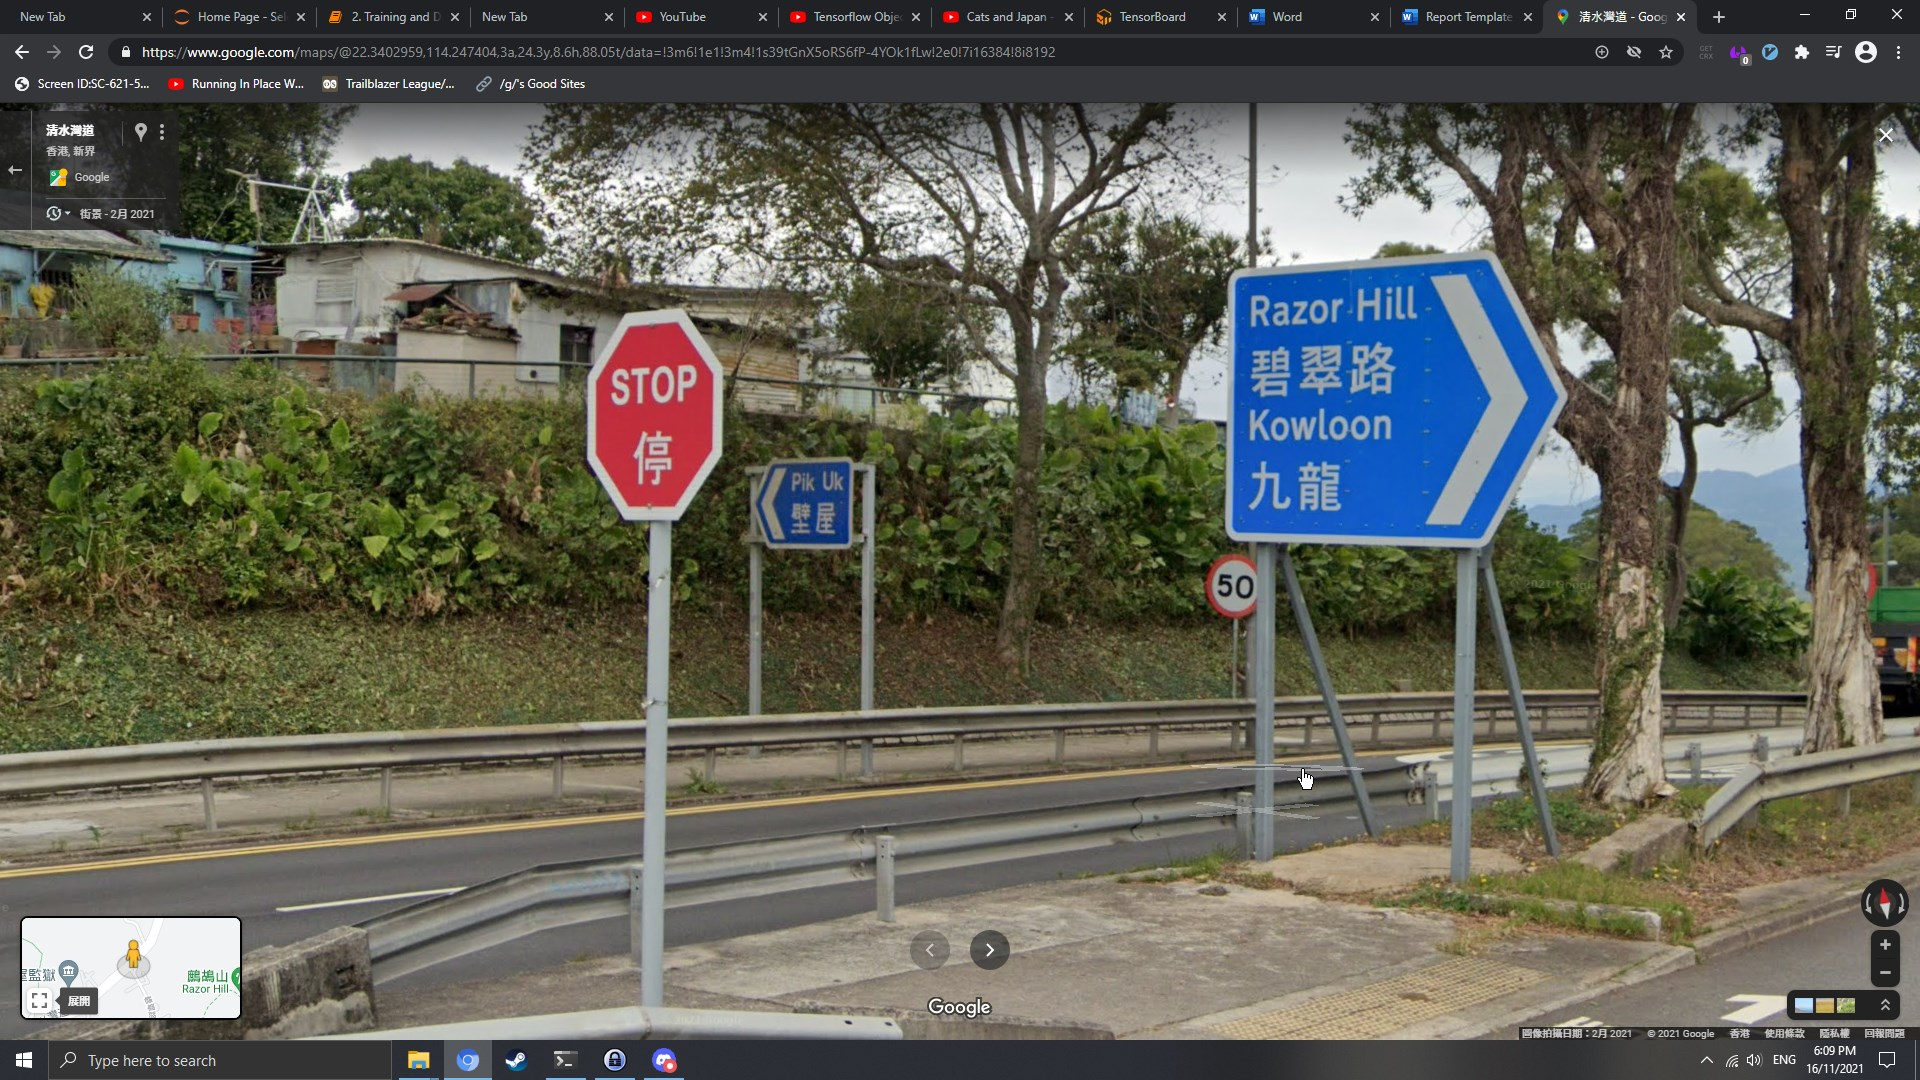Stop: (587, 309, 724, 521)
